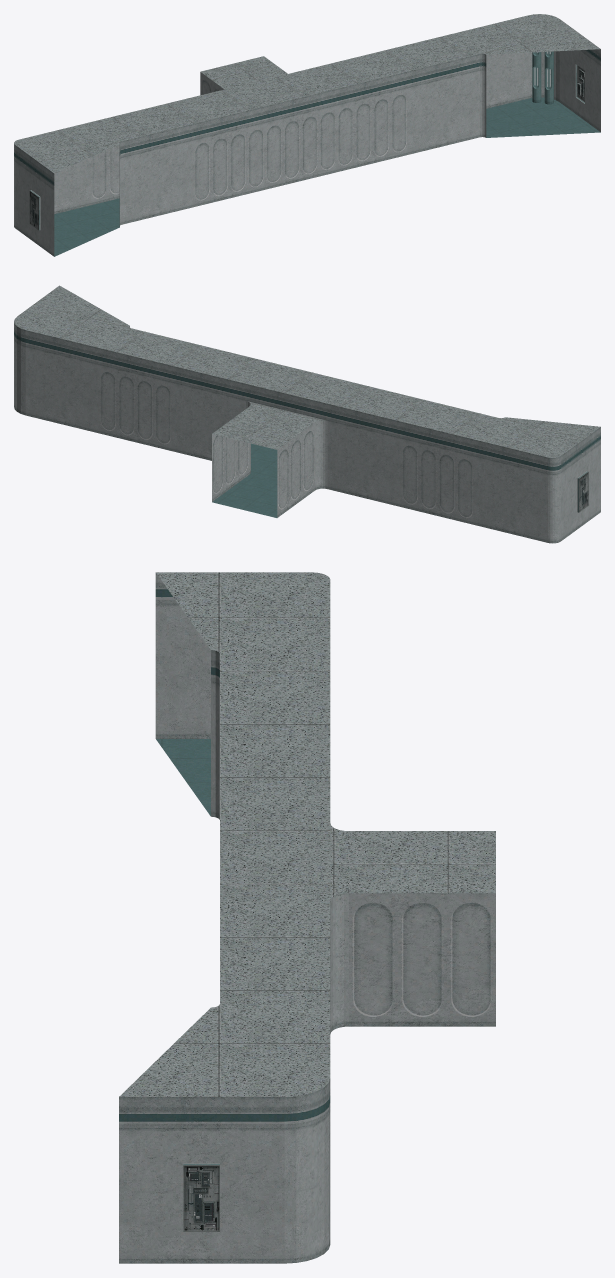
File: mun_corl_hospital_s01_r1_entrya_mesh_r1.fbx
3 views of the same model, one above another, from view 1: azimuth 30°, elevation 25°; view 2: azimuth 150°, elevation 25°; view 3: azimuth 270°, elevation 25° (orthographic). The views are drawn at different scales.
Parts seen in each view (by area): view 1: mesh_node; view 2: mesh_node; view 3: mesh_node.
Boxes of the visible parts, box(x1,y1,x2,y2) form: mesh_node: box(14, 14, 600, 256); mesh_node: box(14, 285, 600, 543); mesh_node: box(119, 572, 495, 1263).
Size of the model in its own units: 33.96 by 5 by 10.25.
